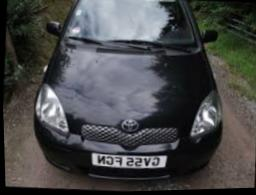Bonnet: (56, 48, 193, 124)
